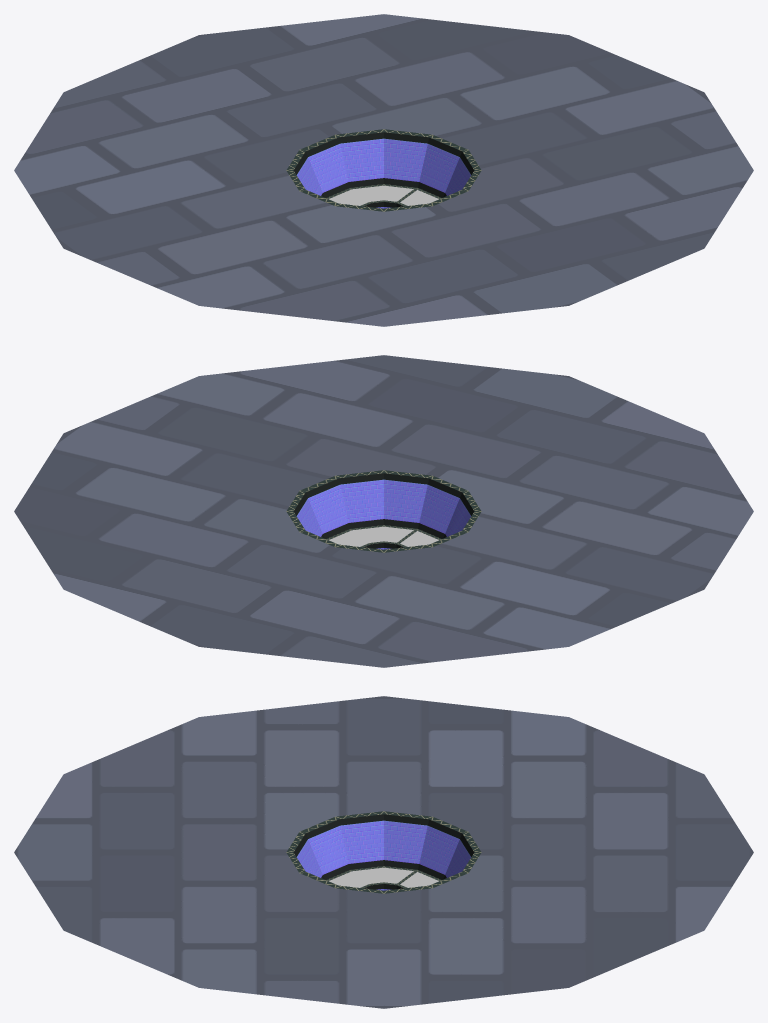
The model's file is ZeldaDemo_Arena_Blockout.fbx.
The picture shows the model from 3 angles, top to bottom: view 1: azimuth 30°, elevation 25°; view 2: azimuth 150°, elevation 25°; view 3: azimuth 270°, elevation 25°; orthographic projection.
Parts seen in each view (by area): view 1: ZeldaDemo_Arena_Blockout; view 2: ZeldaDemo_Arena_Blockout; view 3: ZeldaDemo_Arena_Blockout.
Part boxes in pixels (box(x1,y1,x2,y2)): ZeldaDemo_Arena_Blockout: box(14, 14, 753, 326); ZeldaDemo_Arena_Blockout: box(14, 355, 753, 667); ZeldaDemo_Arena_Blockout: box(14, 696, 753, 1008).
Bounding box in the file's own units: 8289 × 1787 × 8289.
